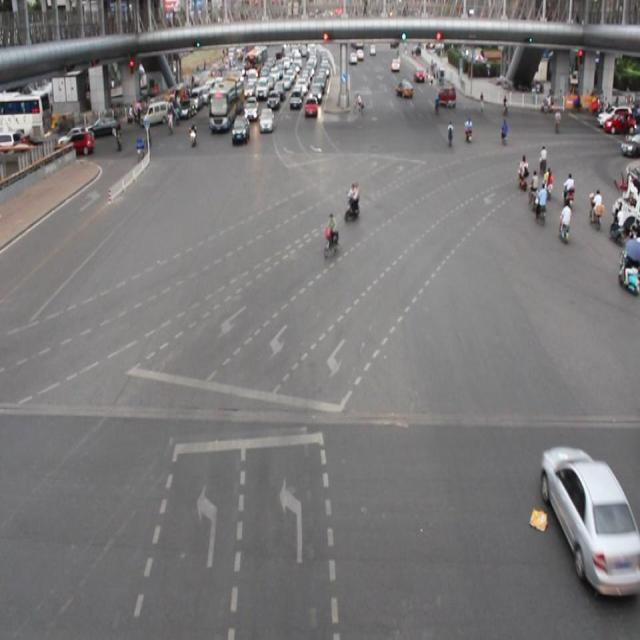BigCar: (208, 86, 232, 134)
car: (536, 444, 640, 599), (90, 107, 122, 138), (147, 99, 172, 127), (602, 112, 631, 136), (394, 76, 415, 105), (259, 104, 274, 130), (288, 92, 305, 113), (305, 94, 317, 122), (234, 119, 248, 137)
